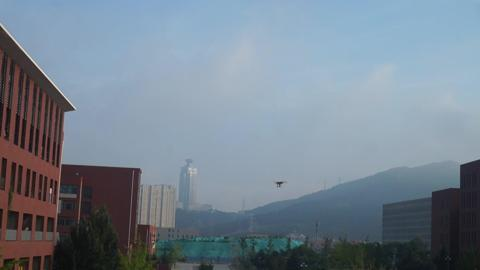UAV: (272, 181, 289, 188)
